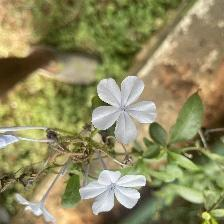chitrak: (88, 74, 160, 147), (79, 171, 146, 215)
